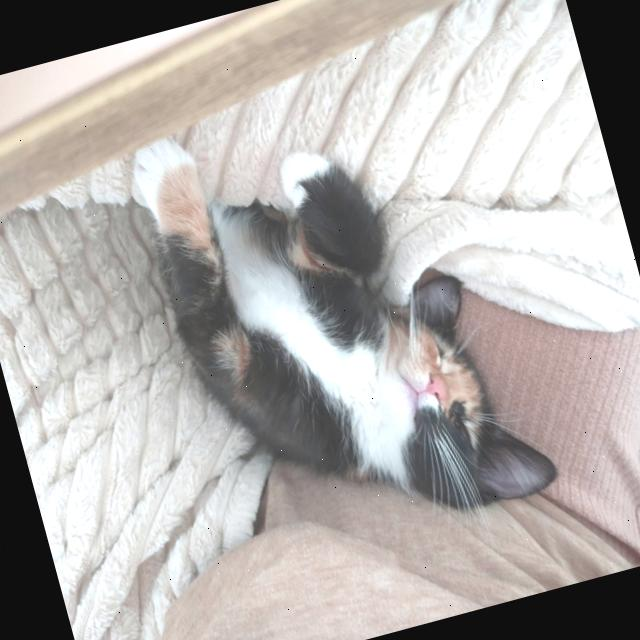calico_cat: (327, 240, 569, 551)
